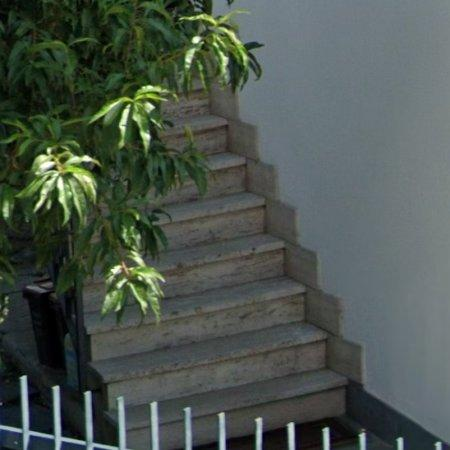stairs: (84, 96, 348, 450)
